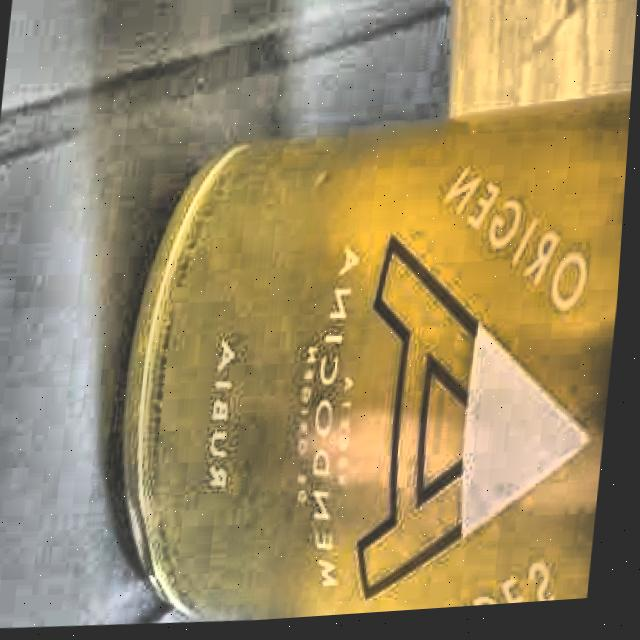metal: (69, 51, 636, 635)
